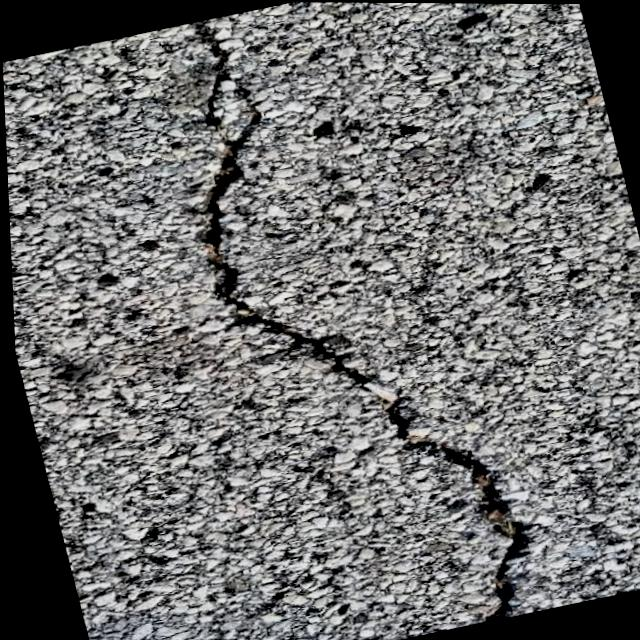cracks: (83, 2, 589, 640)
